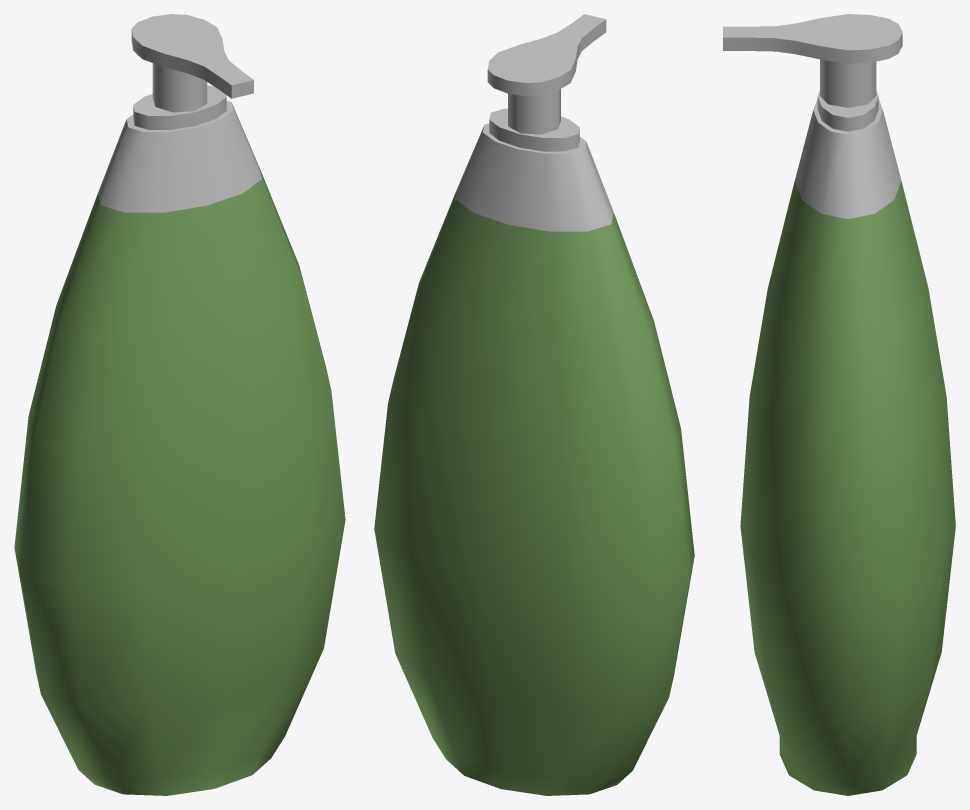
Rendered from Soap_01.fbx.
3 views of the same model, side by side, from view 1: azimuth 30°, elevation 25°; view 2: azimuth 150°, elevation 25°; view 3: azimuth 270°, elevation 25° (orthographic). The views are drawn at different scales.
Visible parts, largest first — view 1: Soap_01, Soap_01_Top; view 2: Soap_01, Soap_01_Top; view 3: Soap_01, Soap_01_Top.
Part boxes in pixels (x1,y1,x2,y2): Soap_01: (14, 85, 345, 795); Soap_01_Top: (131, 14, 253, 112); Soap_01: (374, 108, 694, 795); Soap_01_Top: (487, 14, 606, 134); Soap_01: (740, 90, 955, 795); Soap_01_Top: (723, 14, 902, 107).
Bounding box in the file's own units: 0.1099 × 0.2387 × 0.0697.
